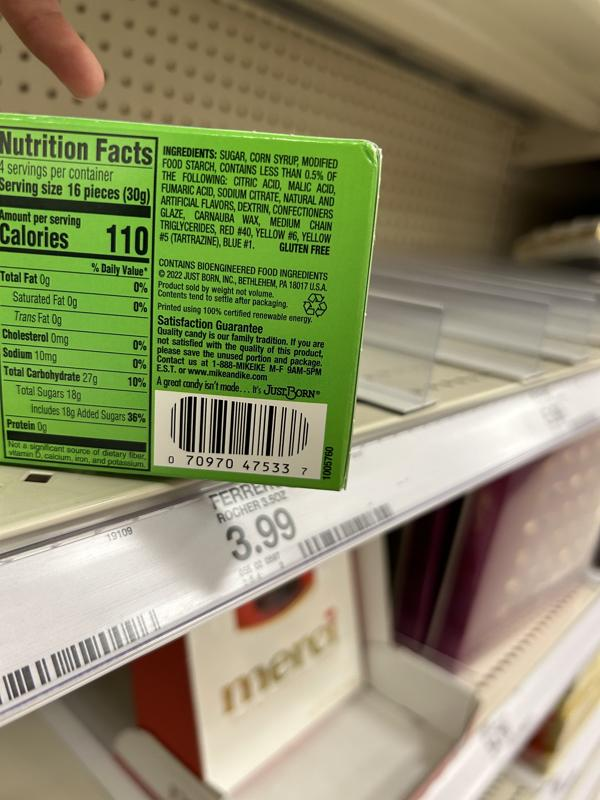ingredients: (157, 142, 339, 259)
